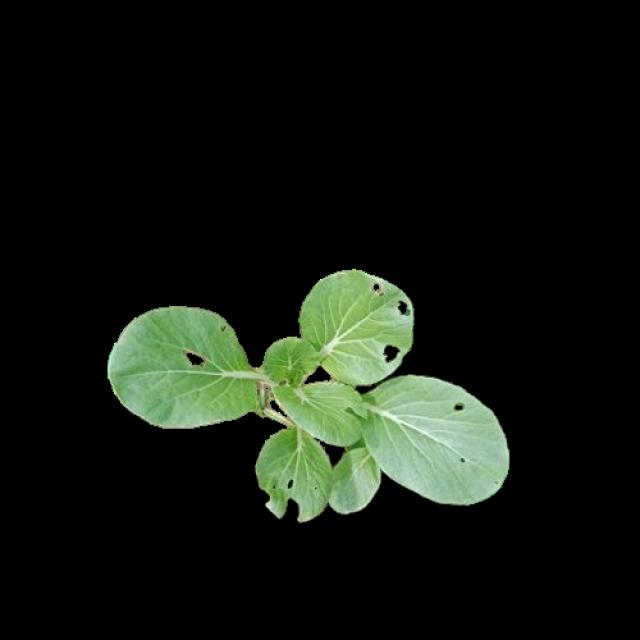not-mature: (110, 270, 510, 524)
unhealthy: (354, 376, 507, 501), (109, 306, 260, 427), (301, 271, 415, 384), (255, 425, 335, 521)
